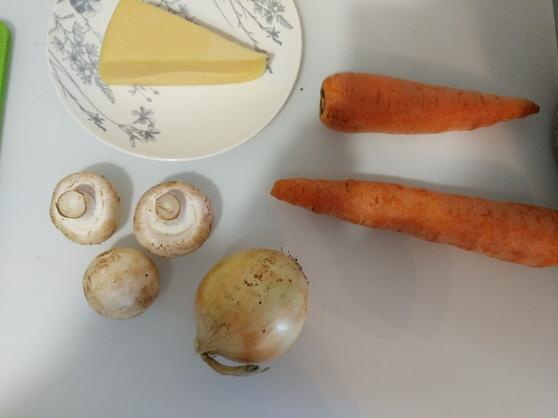carrot: (271, 170, 556, 267), (319, 70, 542, 134)
champignon: (133, 180, 213, 258), (84, 247, 159, 320), (51, 172, 119, 245)
cheese: (98, 2, 266, 84)
onion: (193, 247, 308, 376)
